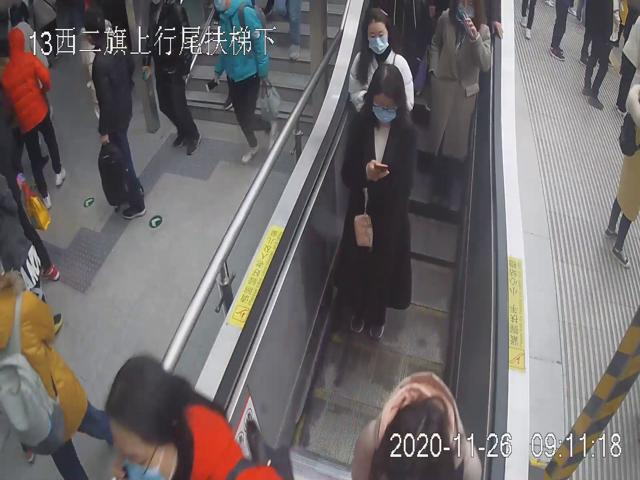person: (340, 62, 416, 340), (424, 0, 494, 224), (345, 4, 416, 120)
